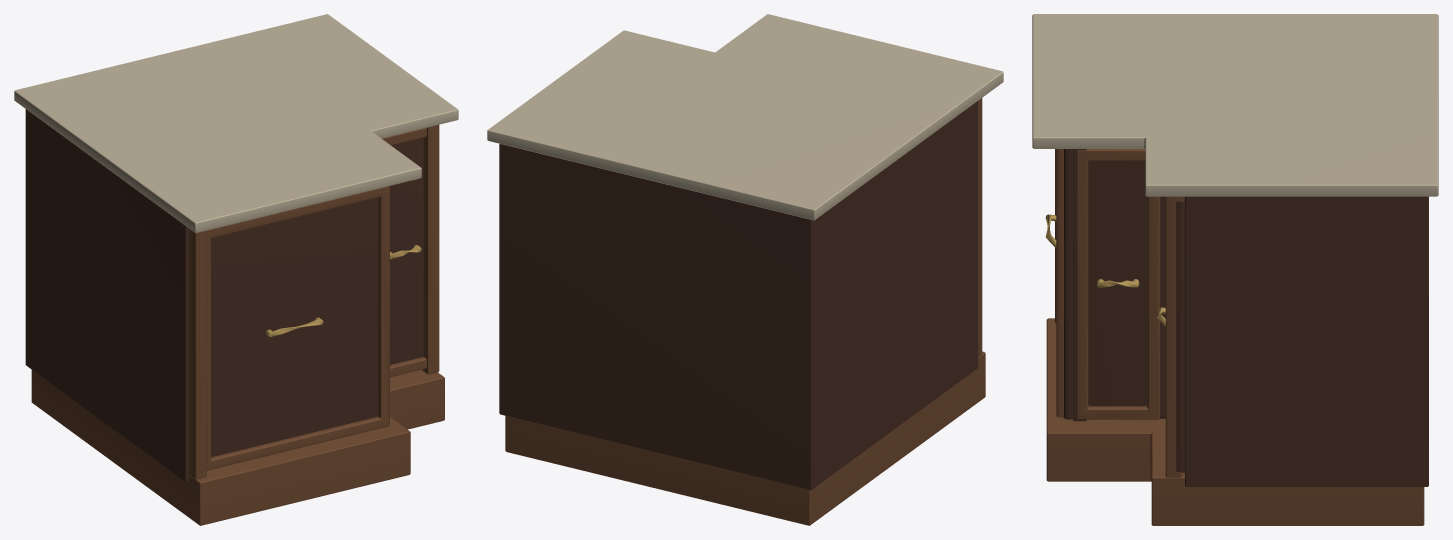
Rendered from rpg-mansion-kitchen-l-corner-right-900-01.glb.
3 views of the same model, side by side, from view 1: azimuth 30°, elevation 25°; view 2: azimuth 150°, elevation 25°; view 3: azimuth 270°, elevation 25° (orthographic). The views are drawn at different scales.
Visible parts, largest first — view 1: rpg-mansion-kitchen-l-corner-right-900-01; view 2: rpg-mansion-kitchen-l-corner-right-900-01; view 3: rpg-mansion-kitchen-l-corner-right-900-01.
Part boxes in pixels (x1=…): rpg-mansion-kitchen-l-corner-right-900-01: x1=14, y1=14, x2=458, y2=525; rpg-mansion-kitchen-l-corner-right-900-01: x1=487, y1=14, x2=1003, y2=525; rpg-mansion-kitchen-l-corner-right-900-01: x1=1032, y1=14, x2=1438, y2=525.
Size of the model in its own units: 0.9 by 0.85 by 0.9.
